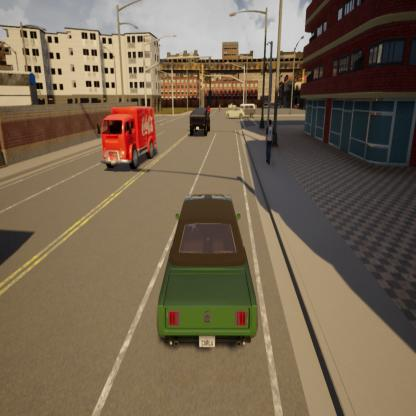Cars: (160, 196, 258, 350), (101, 108, 157, 168), (190, 108, 210, 136), (226, 107, 243, 122), (240, 102, 256, 116), (227, 102, 238, 110), (204, 104, 210, 115)
Pedestrian: (266, 121, 273, 166), (216, 102, 221, 110)
